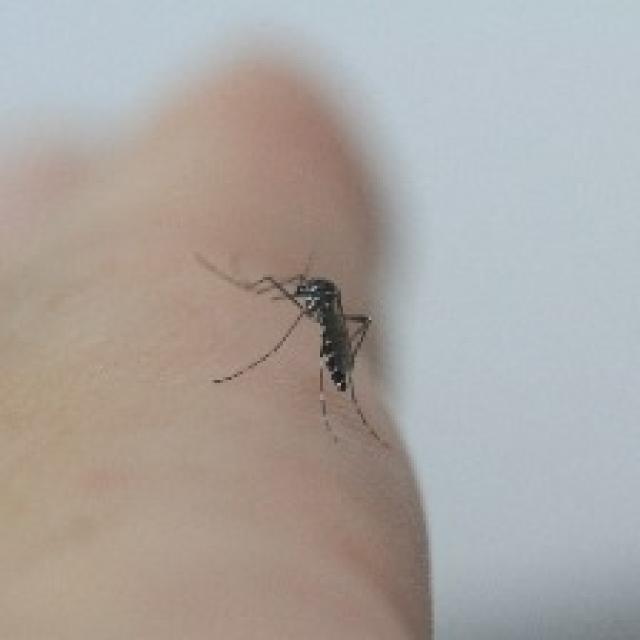aedes: (188, 246, 392, 448)
